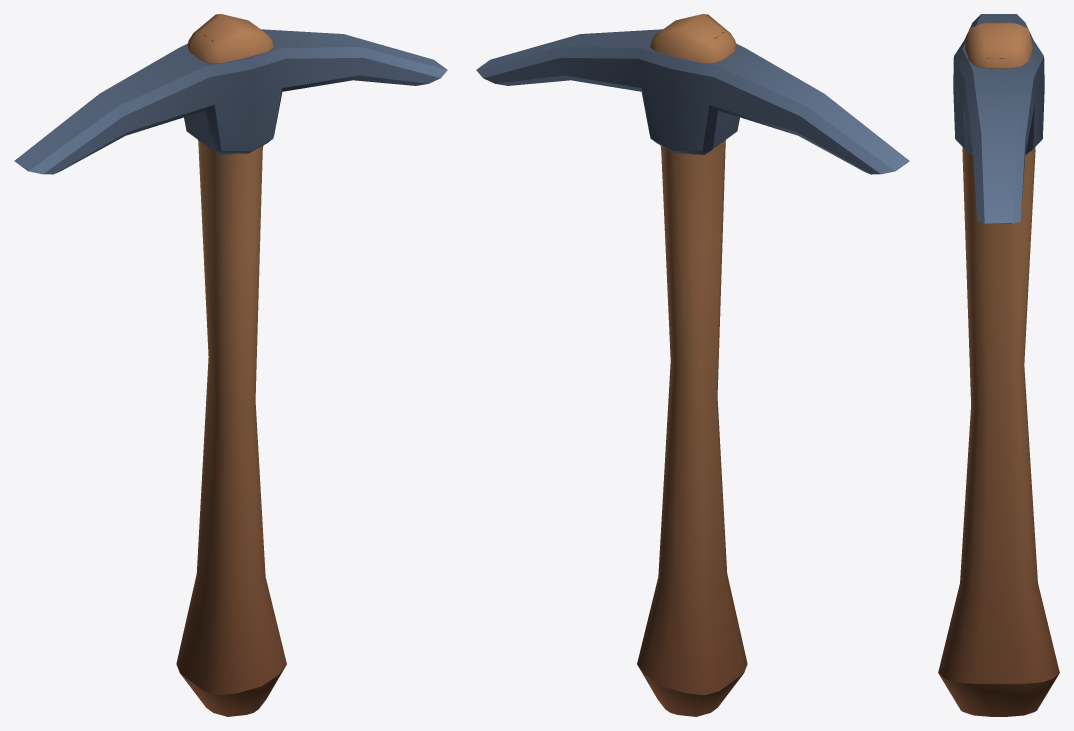
The model's file is Pickaxe_Stone.fbx.
3 renders of one model, left to right at view 1: azimuth 30°, elevation 25°; view 2: azimuth 150°, elevation 25°; view 3: azimuth 270°, elevation 25°, orthographic.
Visible parts, largest first — view 1: pickaxe_wood, pickaxe_wood.001; view 2: pickaxe_wood, pickaxe_wood.001; view 3: pickaxe_wood, pickaxe_wood.001.
Part boxes in pixels (left/top/right/bottom): pickaxe_wood: left=176, top=14, right=286, bottom=716; pickaxe_wood.001: left=14, top=29, right=447, bottom=174; pickaxe_wood: left=637, top=14, right=747, bottom=716; pickaxe_wood.001: left=476, top=29, right=909, bottom=174; pickaxe_wood: left=938, top=22, right=1059, bottom=716; pickaxe_wood.001: left=953, top=14, right=1044, bottom=223.
Bounding box in the file's own units: 50.66 × 78.99 × 12.64.
